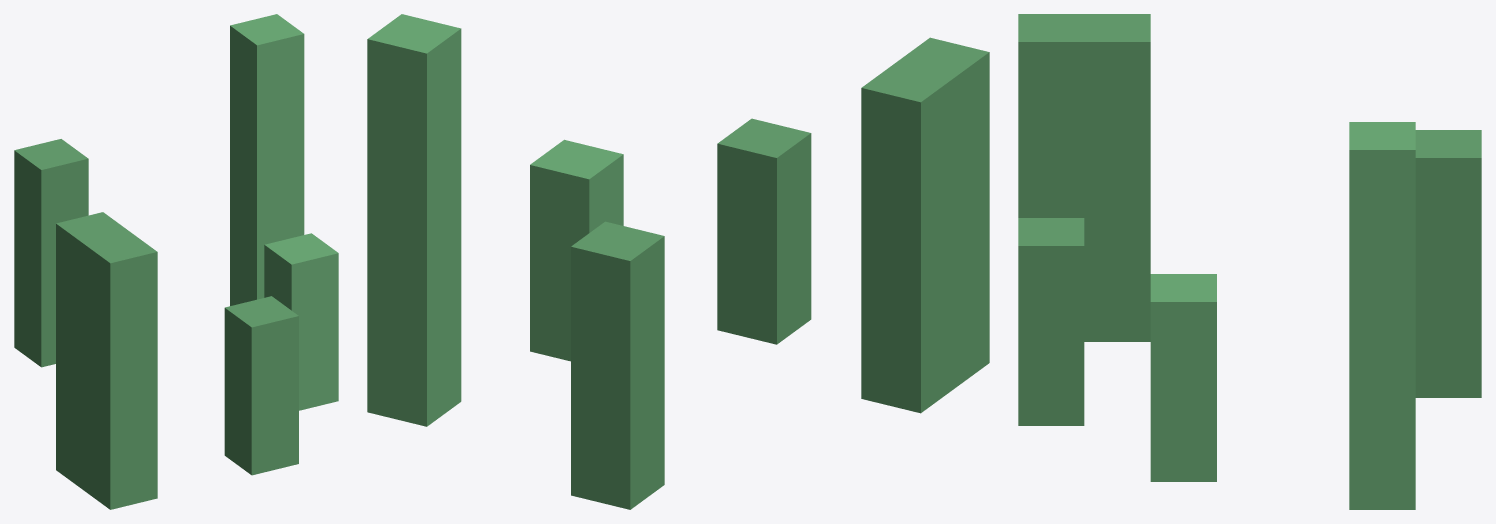
File: mata_de_hojas_anchas_02.glb
The picture shows the model from 3 angles, left to right: view 1: azimuth 30°, elevation 25°; view 2: azimuth 150°, elevation 25°; view 3: azimuth 270°, elevation 25°; orthographic projection. The views are drawn at different scales.
Parts seen in each view (by area): view 1: mata_de_hojas_anchas_02; view 2: mata_de_hojas_anchas_02; view 3: mata_de_hojas_anchas_02.
Part boxes in pixels (x1,y1,x2,y2): mata_de_hojas_anchas_02: (14, 14, 338, 509); mata_de_hojas_anchas_02: (367, 14, 989, 509); mata_de_hojas_anchas_02: (1018, 14, 1481, 509).
Size of the model in its own units: 0.7 by 0.6 by 0.7.
